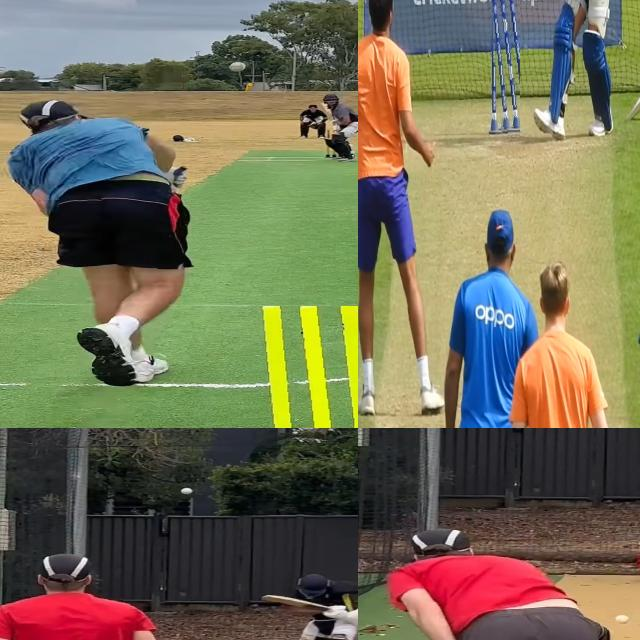Cricket ball: (226, 57, 253, 76), (613, 615, 632, 625), (180, 487, 194, 495)
Stumps: (242, 306, 358, 428), (488, 0, 519, 137)
